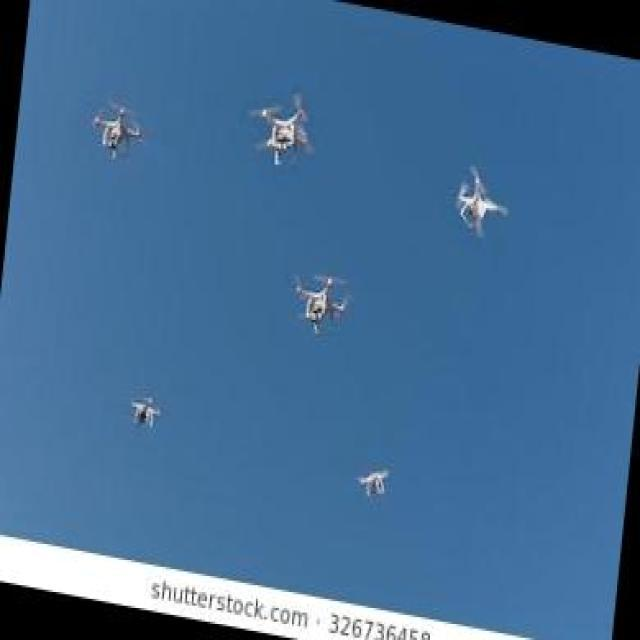drone: (252, 85, 316, 169), (286, 260, 352, 338), (448, 160, 509, 236), (87, 96, 148, 162), (126, 390, 161, 431), (355, 456, 390, 497)
